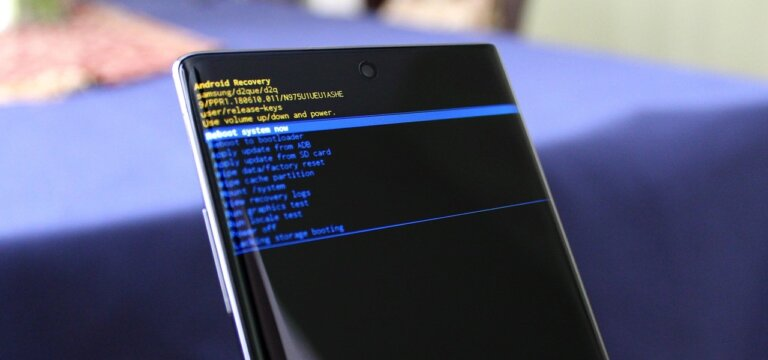phone: (168, 36, 618, 360)
